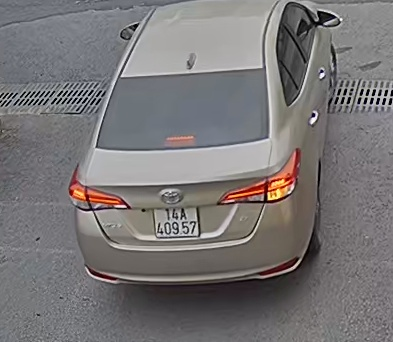vehicle plate: (149, 203, 201, 239)
